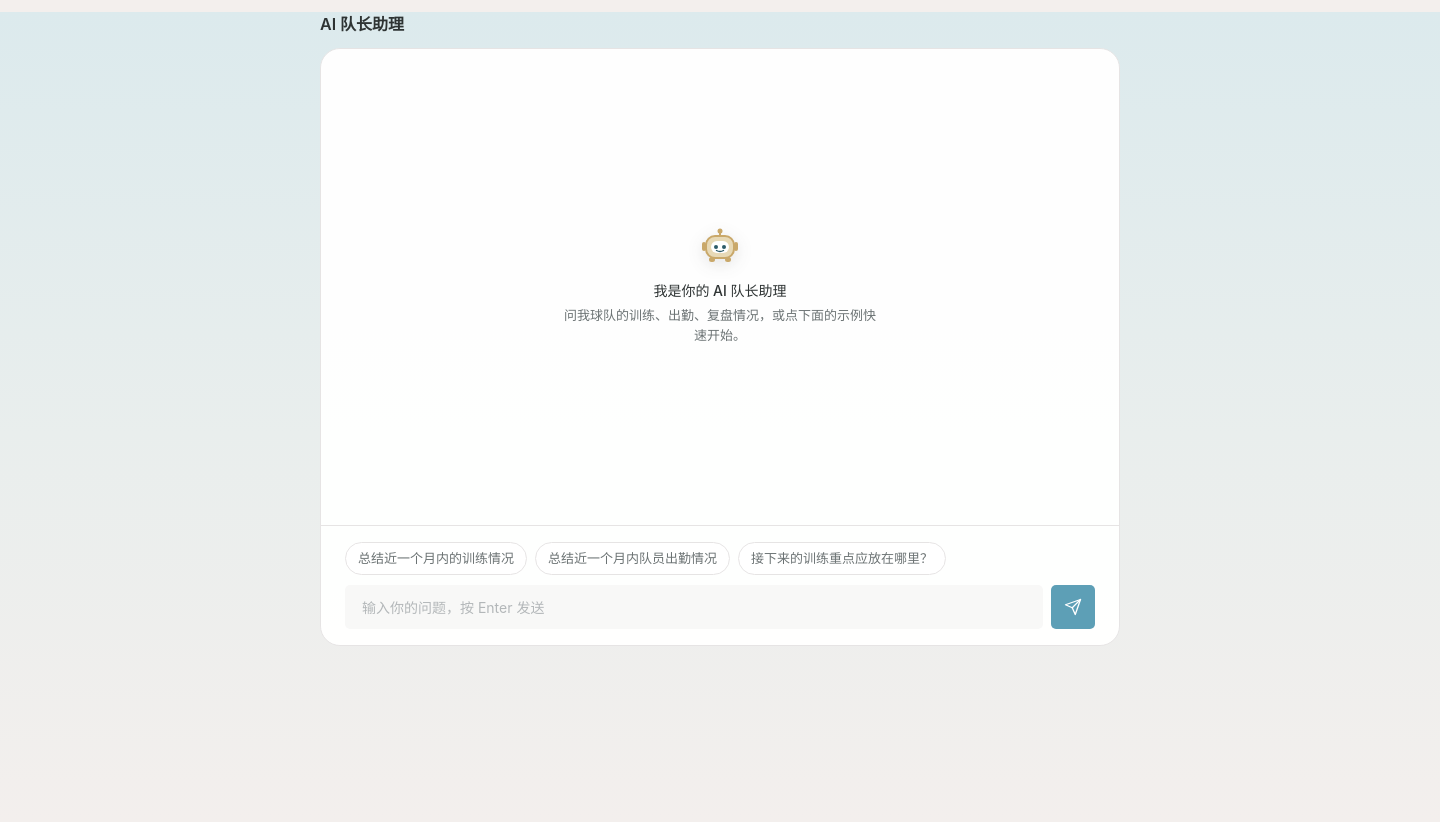
Assistant › shows the user's message immediately while the request is in flight
Type "立即显示的问题" into the field named "提问输入". click: x=694, y=607
box: [345, 585, 1043, 629]
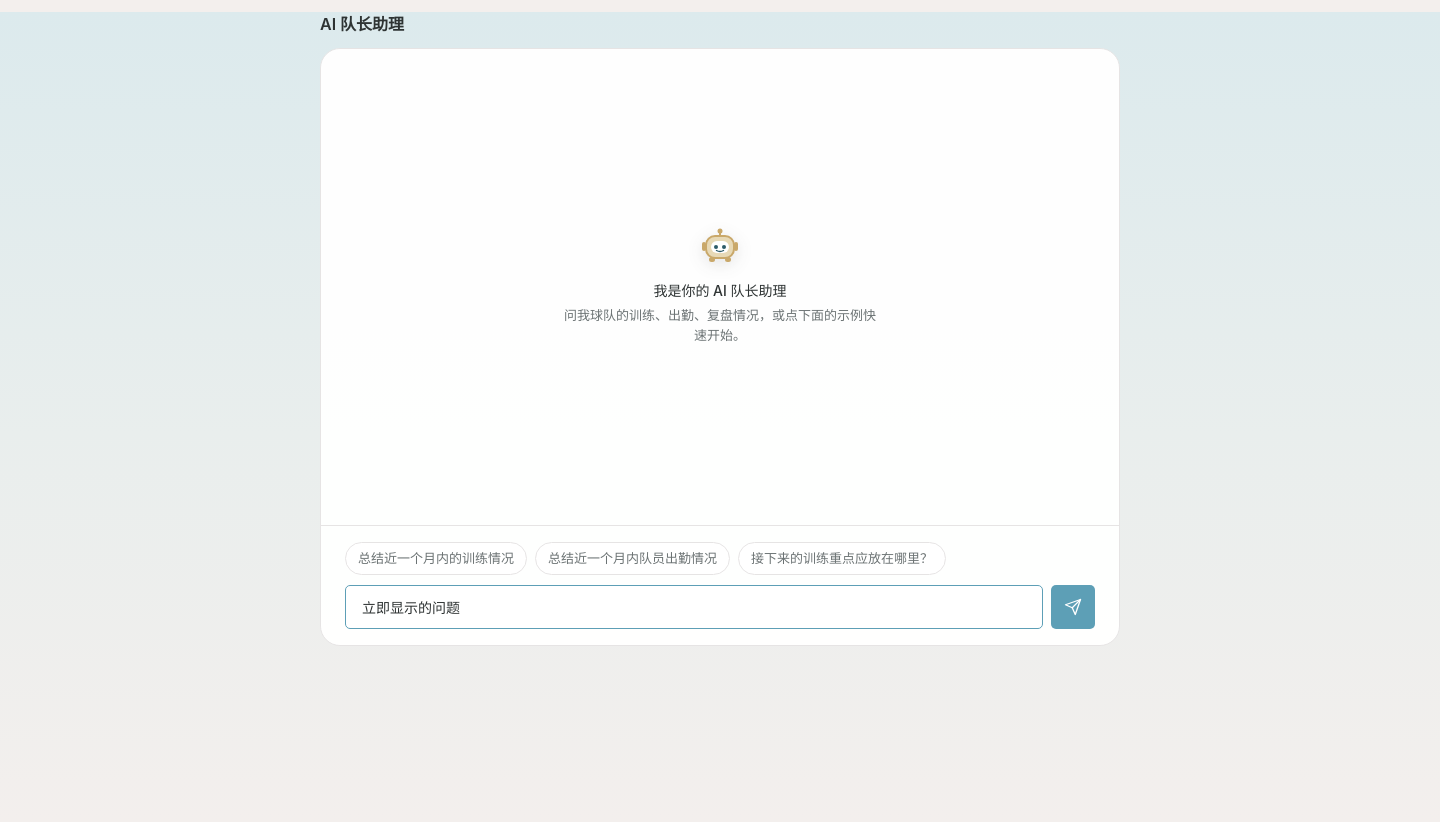
Click the button named "发送". click: x=1073, y=607
box: [1051, 585, 1095, 629]
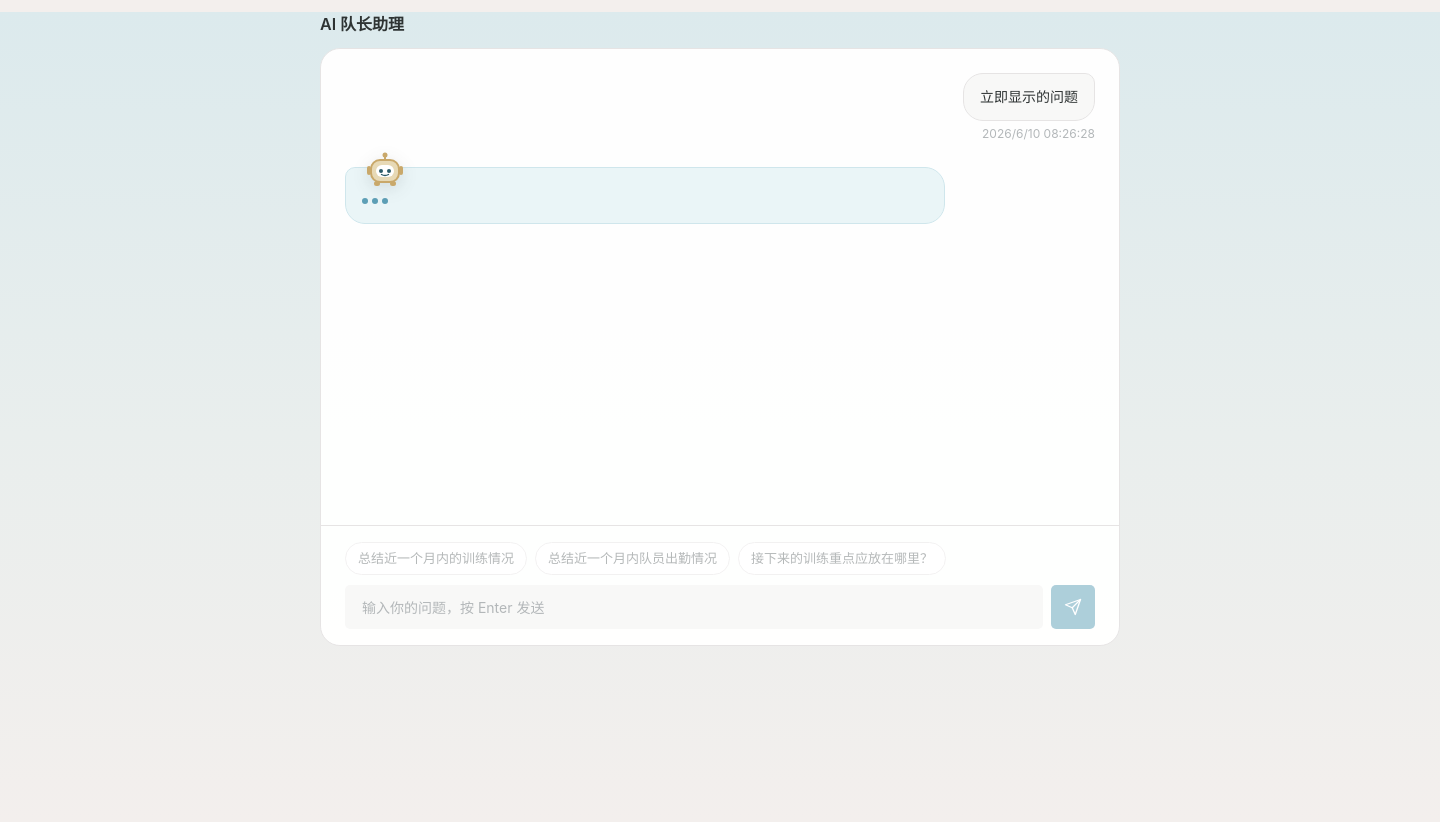
Expected: the text "立即显示的问题" is shown, [963, 73, 1095, 121]
